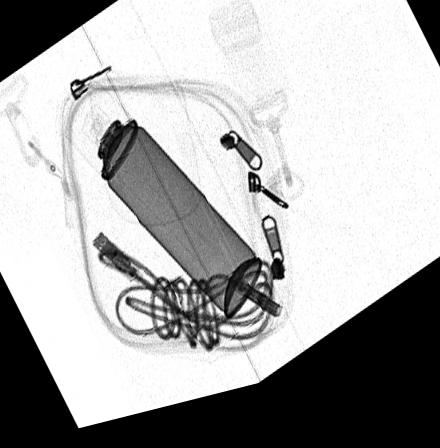Sprayer: (64, 85, 263, 329)
